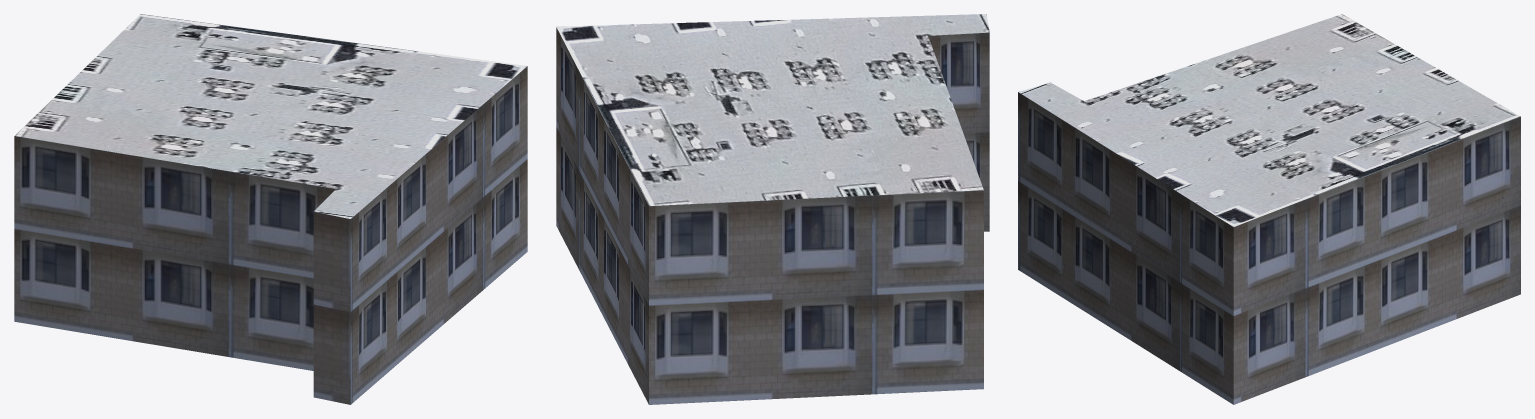
Rendered from ResTex__1598.fbx.
3 renders of one model, left to right at view 1: azimuth 30°, elevation 25°; view 2: azimuth 150°, elevation 25°; view 3: azimuth 270°, elevation 25°, orthographic. The views are drawn at different scales.
Parts seen in each view (by area): view 1: CityEngineMaterial_3_m, CityEngineMaterial_4_m; view 2: CityEngineMaterial_3_m, CityEngineMaterial_4_m; view 3: CityEngineMaterial_3_m, CityEngineMaterial_4_m.
Part boxes in pixels (bbox=[...]): CityEngineMaterial_3_m: bbox=[14, 66, 527, 404]; CityEngineMaterial_4_m: bbox=[15, 14, 526, 218]; CityEngineMaterial_3_m: bbox=[556, 27, 989, 404]; CityEngineMaterial_4_m: bbox=[556, 14, 989, 205]; CityEngineMaterial_3_m: bbox=[1018, 92, 1520, 404]; CityEngineMaterial_4_m: bbox=[1018, 14, 1520, 226].
Bounding box in the file's own units: 15.42 × 6 × 15.38.
Materials: 2 (2 with a texture image).
